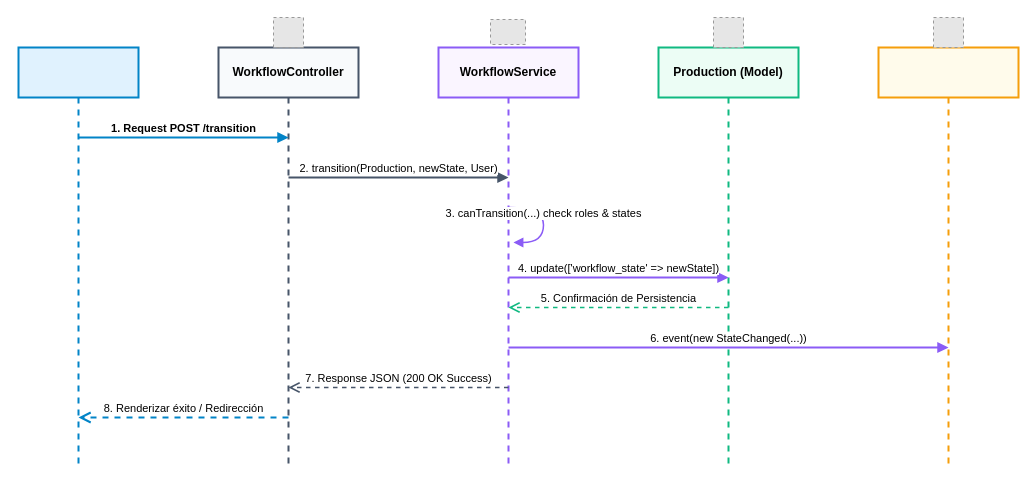
Image size: 1036x486. Some labels were removed from this diagram. Grey dashed boxes stand in for pictures. Each missing label, with the box of its shape:
Event Dispatcher: (877, 46, 1019, 468)
👤 Usuario: (17, 46, 139, 468)
